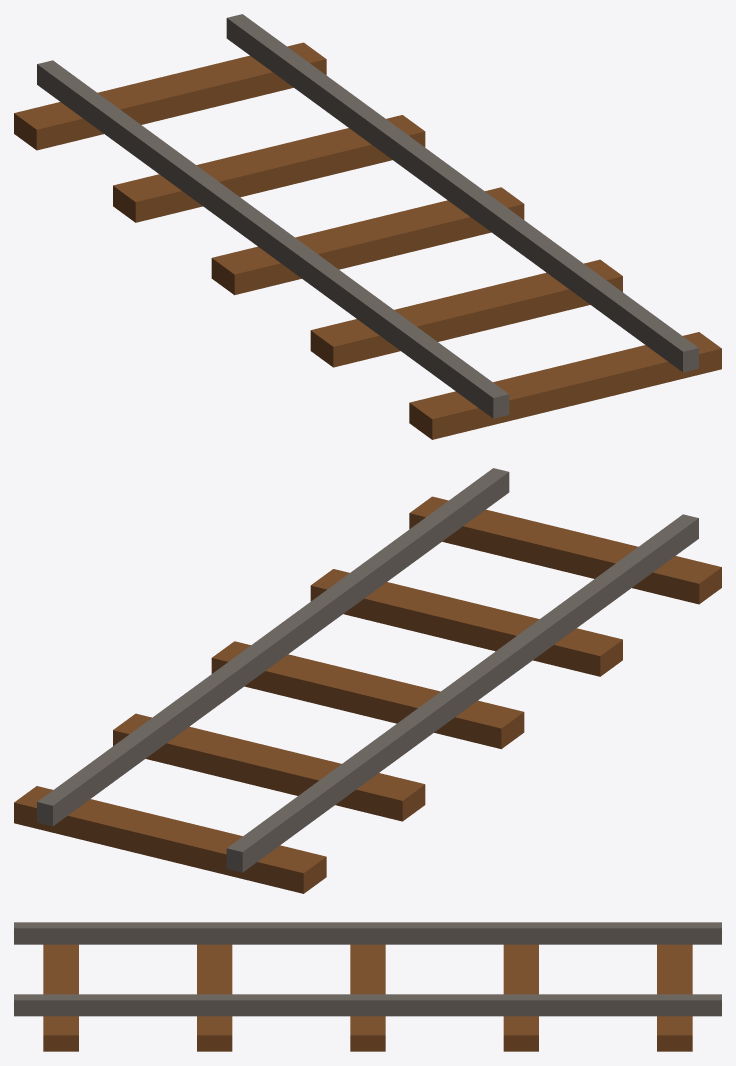
The model's file is rail_straight.fbx.
3 renders of one model, top to bottom at view 1: azimuth 30°, elevation 25°; view 2: azimuth 150°, elevation 25°; view 3: azimuth 270°, elevation 25°, orthographic. The views are drawn at different scales.
Parts seen in each view (by area): view 1: rail_straight; view 2: rail_straight; view 3: rail_straight.
Part boxes in pixels (x1,y1,x2,y2): rail_straight: (14,14,721,439); rail_straight: (14,468,721,893); rail_straight: (14,922,721,1051).
Size of the model in its own units: 2.2 by 0.33 by 6.
